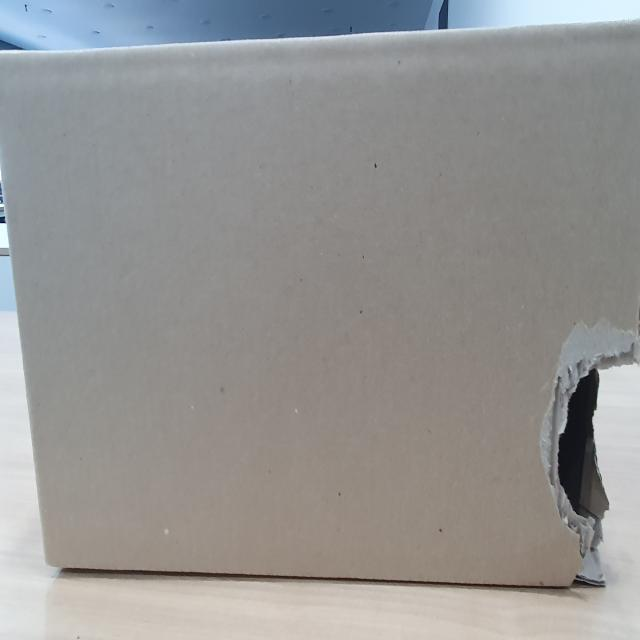hole: (549, 338, 639, 590)
